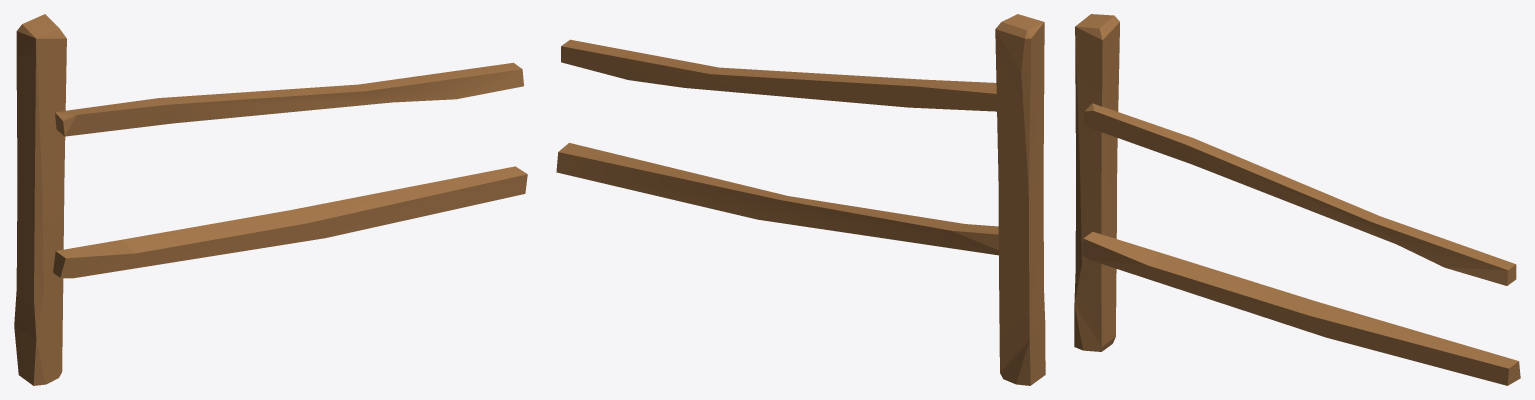
Rendered from Fence_WoodA_C.fbx.
The picture shows the model from 3 angles, left to right: view 1: azimuth 30°, elevation 25°; view 2: azimuth 150°, elevation 25°; view 3: azimuth 330°, elevation 25°; orthographic projection. The views are drawn at different scales.
Visible parts, largest first — view 1: Fence_WoodA_C; view 2: Fence_WoodA_C; view 3: Fence_WoodA_C.
Boxes of the visible parts, x1=… form: Fence_WoodA_C: x1=14, y1=14, x2=527, y2=385; Fence_WoodA_C: x1=556, y1=14, x2=1045, y2=385; Fence_WoodA_C: x1=1074, y1=14, x2=1520, y2=385.
Size of the model in its own units: 220 by 154 by 23.28.
